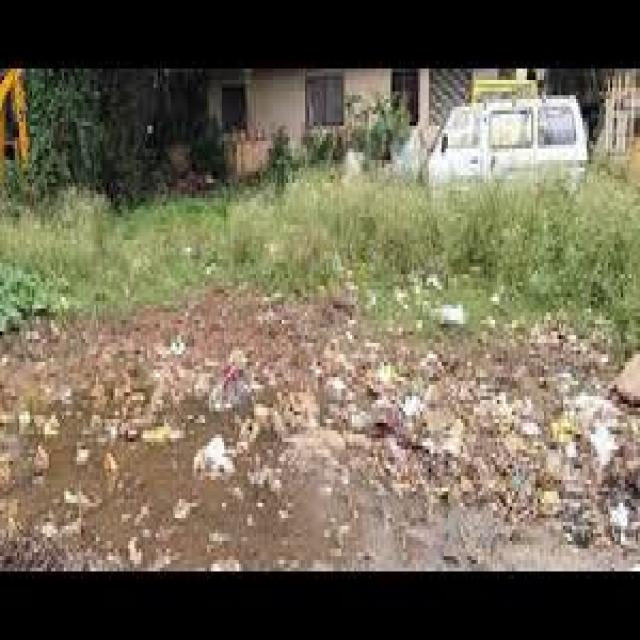garbage: (0, 275, 639, 575)
